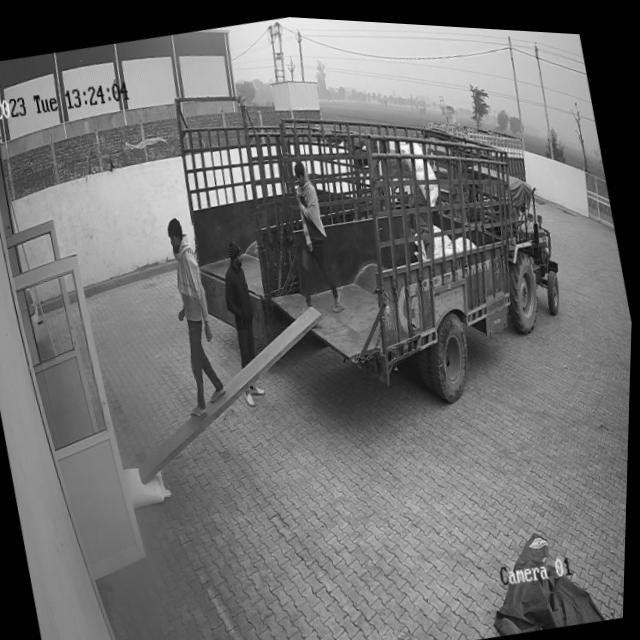sack: (126, 457, 177, 509)
